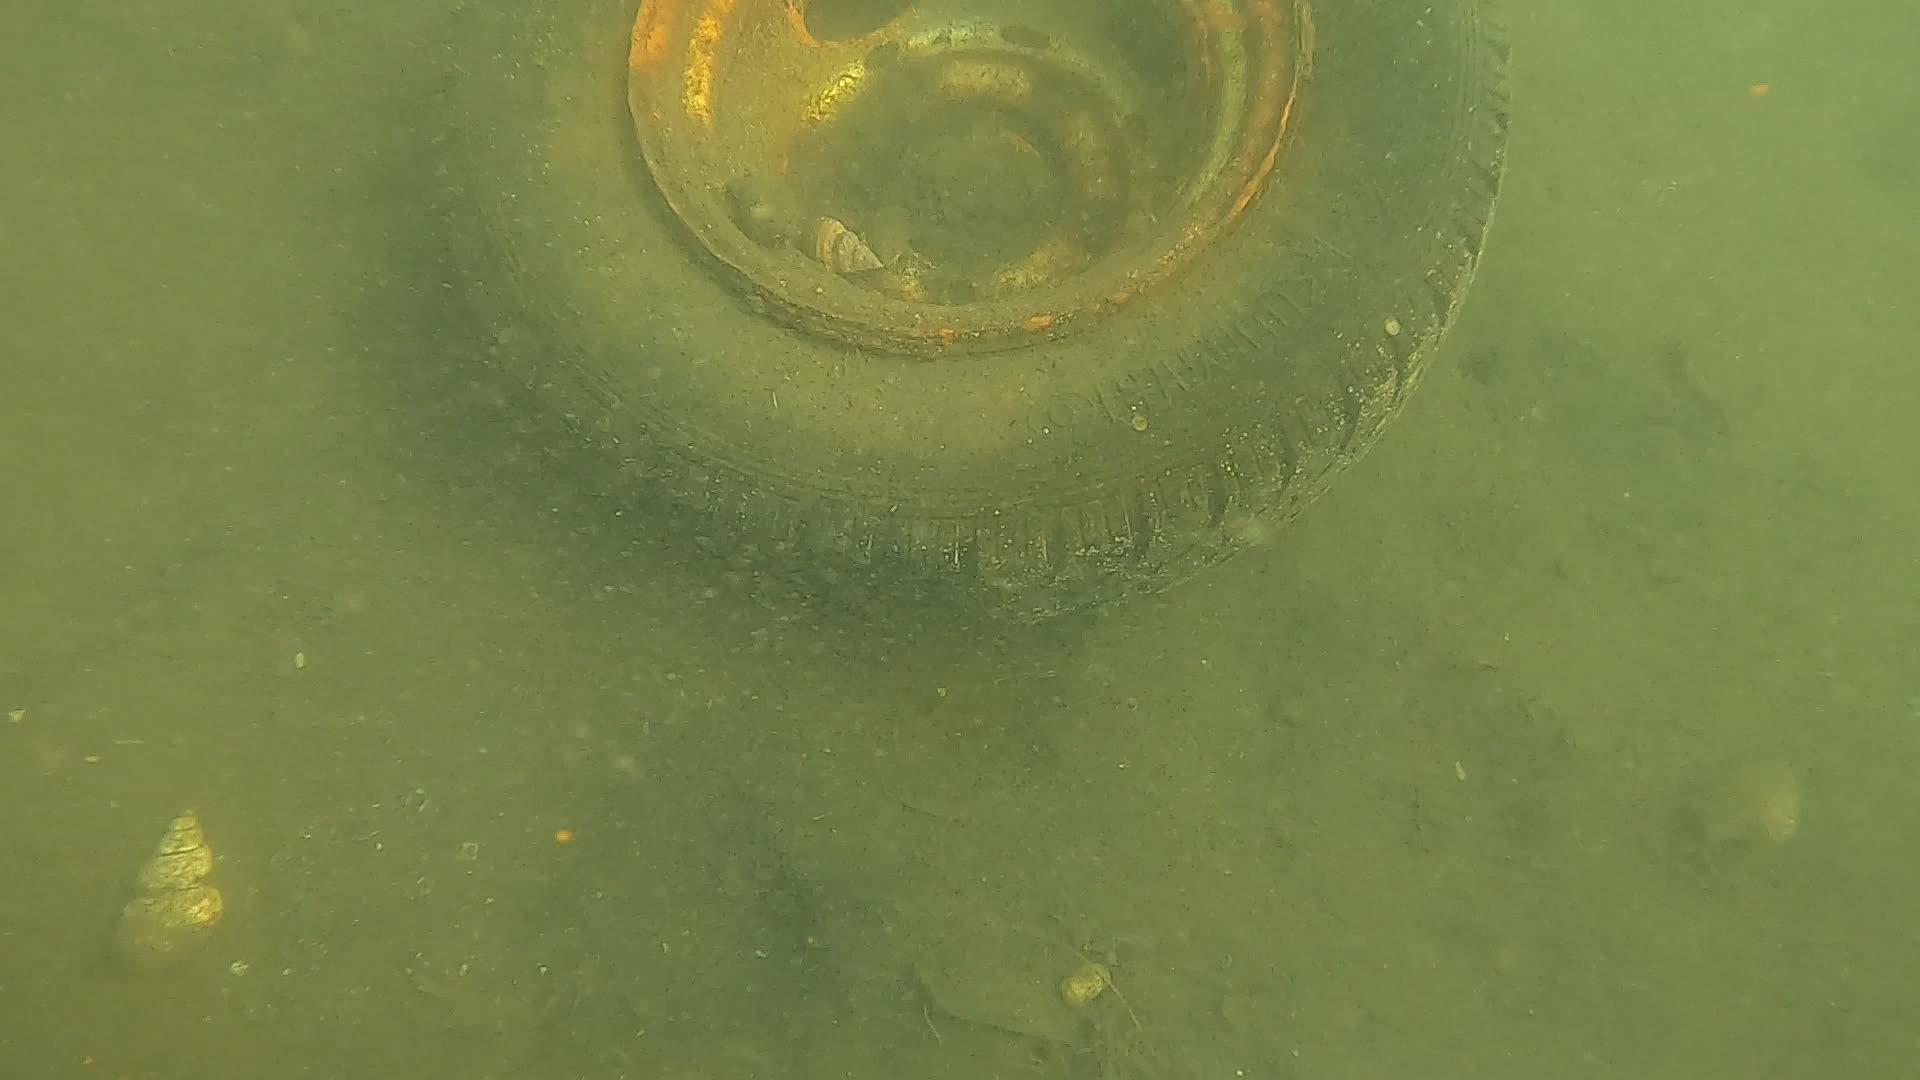tire: (429, 3, 1515, 622)
